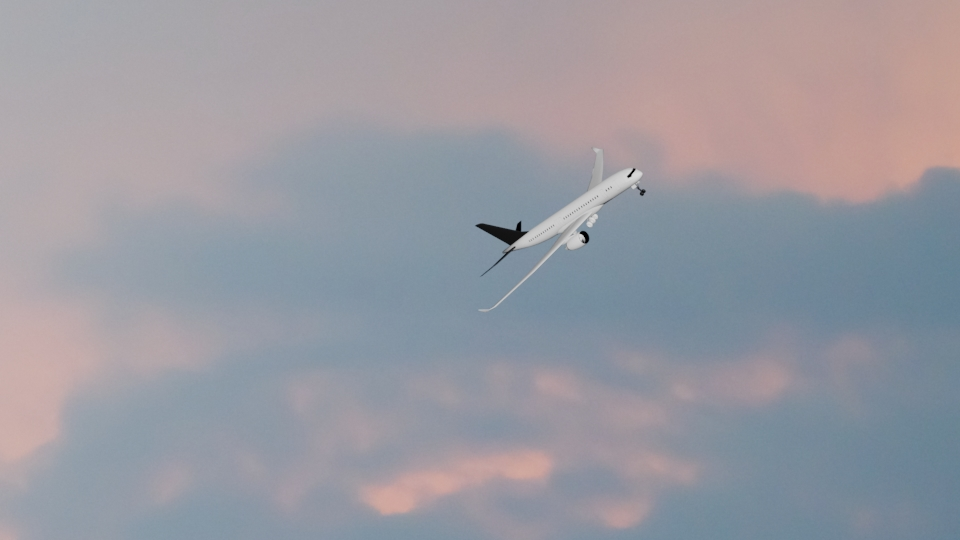plane: (470, 140, 647, 313)
